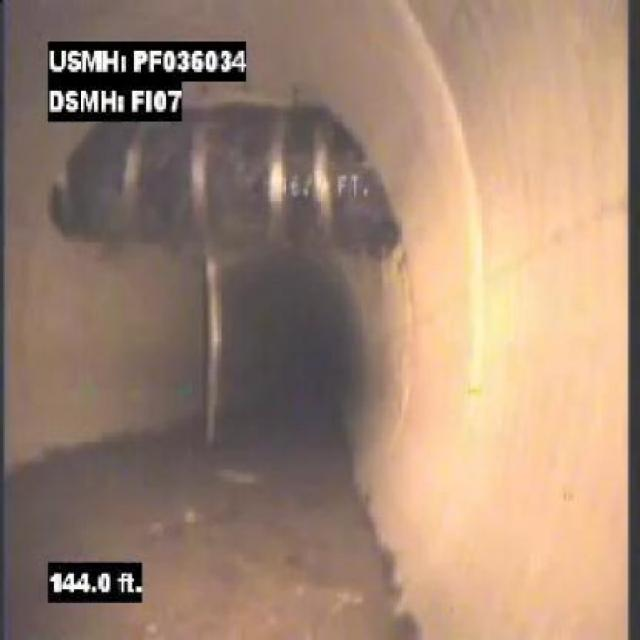Utility intrusion: (41, 99, 408, 266)
